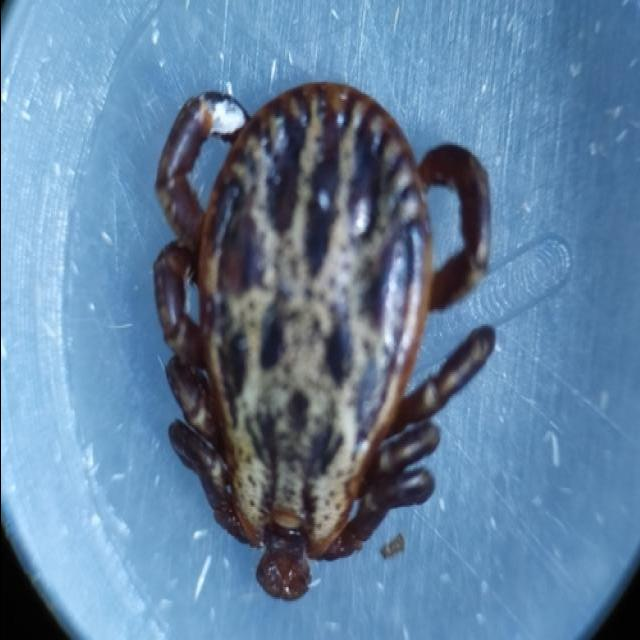Dermacentor Reticulatus-M: (150, 82, 494, 599)
